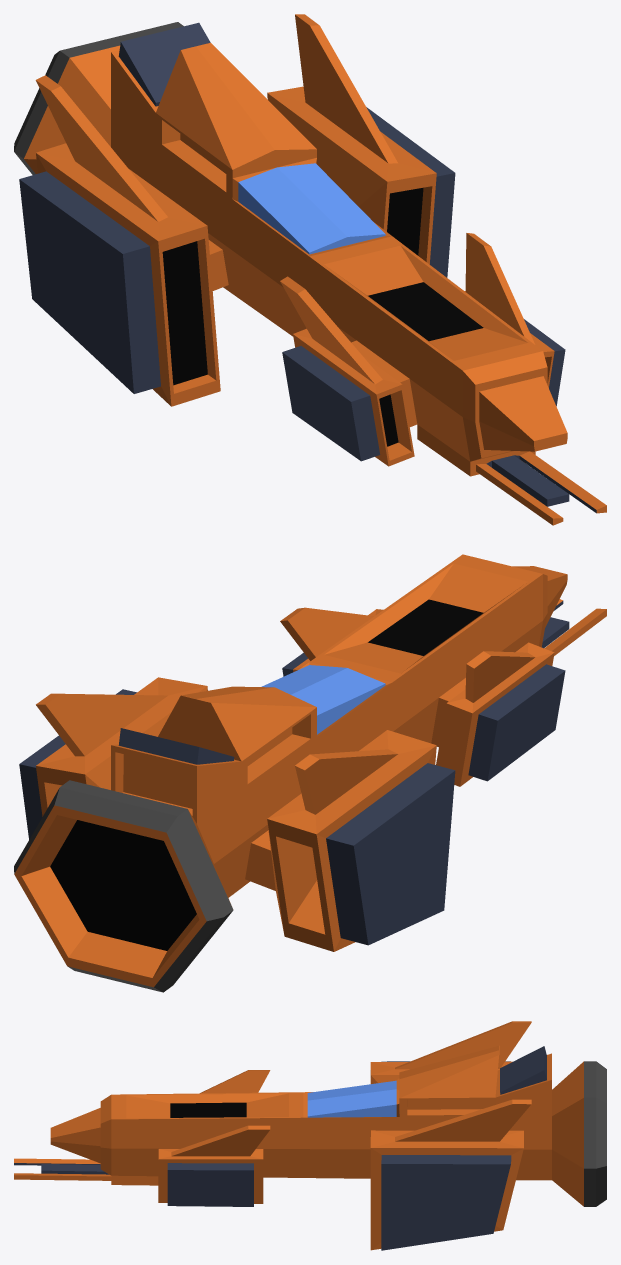
File: ZenithHunter.glb
3 views of the same model, one above another, from view 1: azimuth 30°, elevation 25°; view 2: azimuth 150°, elevation 25°; view 3: azimuth 270°, elevation 25° (orthographic). The views are drawn at different scales.
Parts seen in each view (by area): view 1: ZenithHunter; view 2: ZenithHunter; view 3: ZenithHunter.
Part boxes in pixels (bbox=[...]): ZenithHunter: bbox=[14, 14, 606, 525]; ZenithHunter: bbox=[14, 554, 606, 992]; ZenithHunter: bbox=[14, 1021, 606, 1250].
Bounding box in the file's own units: 14.01 × 10.17 × 33.89.
Materials: 1 (1 with a texture image).
